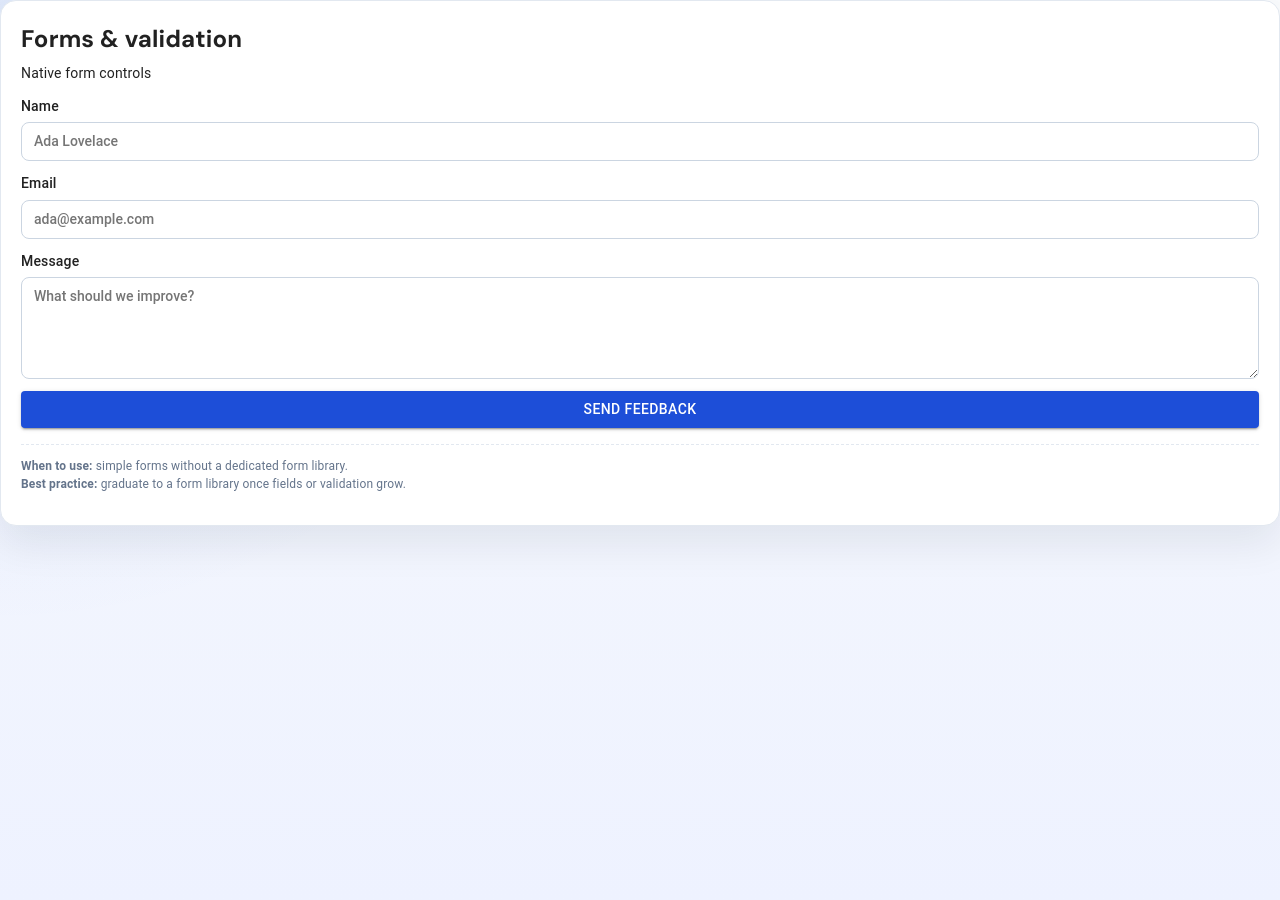
Test: FeedbackForm › shows validation errors when submitting empty values
The image size is (1280, 900).
Click the button with test id "feedback-submit" at (640, 410), box [21,391,1259,428]
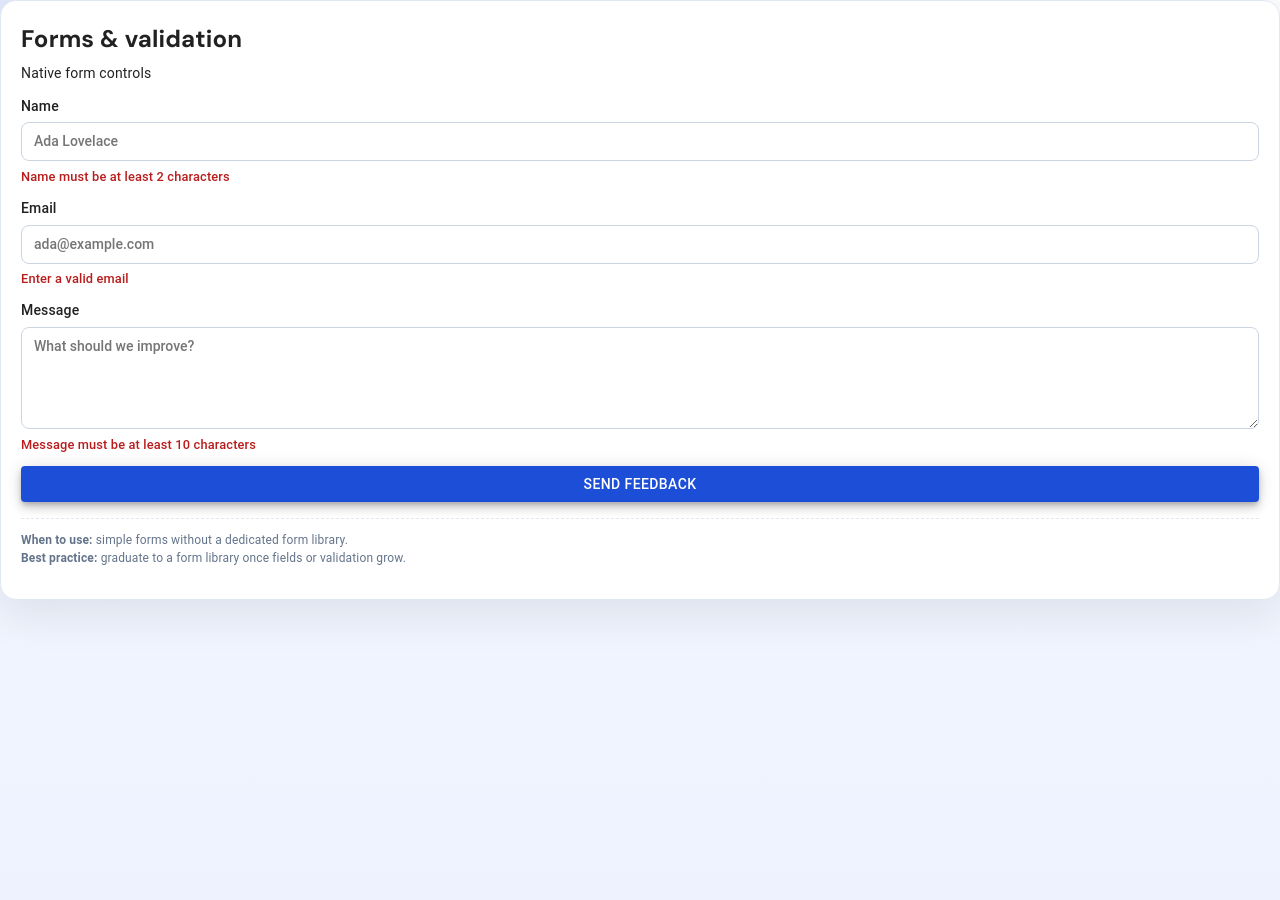
Expected: the text "Name must be at least 2 characters" is shown, [21,169,230,184]
